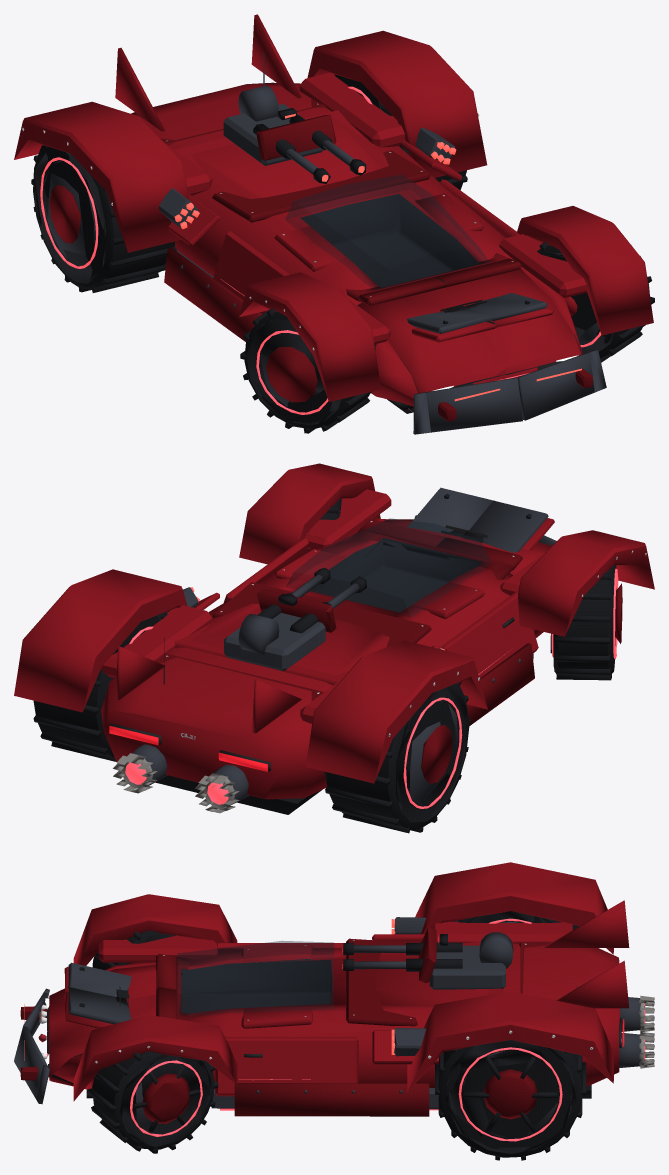
Rendered from CRX1_interceptor_battle_lod1.glb.
3 views of the same model, one above another, from view 1: azimuth 30°, elevation 25°; view 2: azimuth 150°, elevation 25°; view 3: azimuth 270°, elevation 25° (orthographic). The views are drawn at different scales.
Parts seen in each view (by area): view 1: CRX1_interceptor_battle_LOD1; view 2: CRX1_interceptor_battle_LOD1; view 3: CRX1_interceptor_battle_LOD1.
Boxes of the visible parts, left/top/right/bottom form: CRX1_interceptor_battle_LOD1: left=14, top=14, right=654, bottom=434; CRX1_interceptor_battle_LOD1: left=14, top=463, right=654, bottom=833; CRX1_interceptor_battle_LOD1: left=14, top=862, right=654, bottom=1160.
Size of the model in its own units: 4.1 by 1.75 by 6.73.
18 materials, 10 textured.
